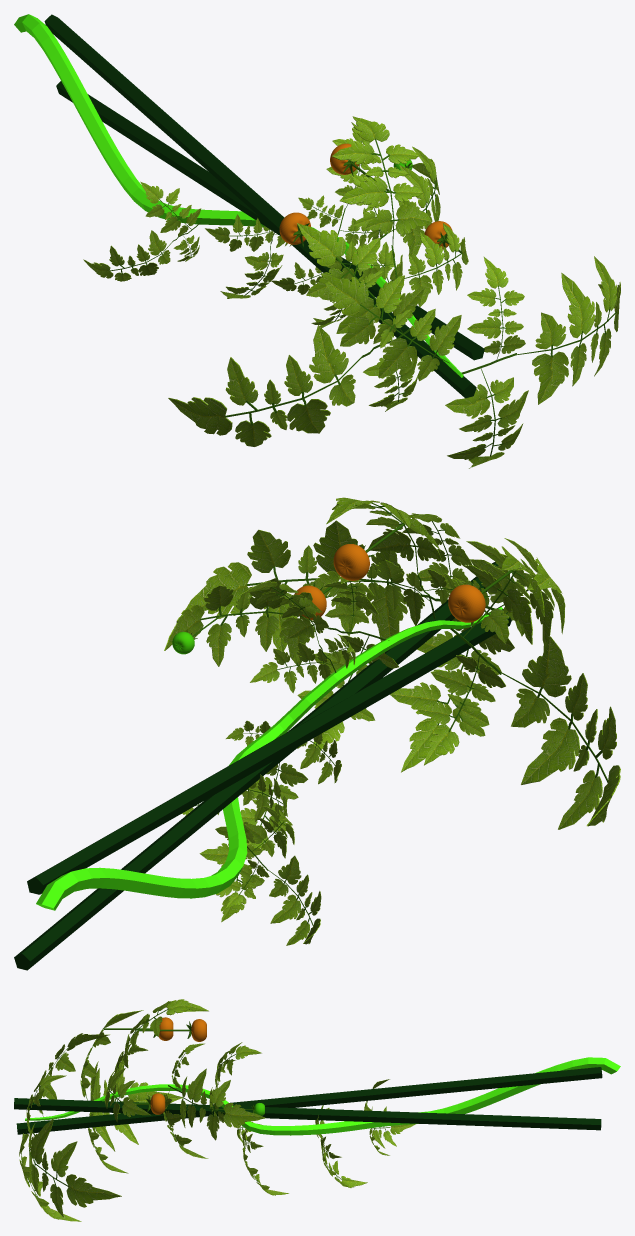
File: tomato_plant_3.obj
The picture shows the model from 3 angles, top to bottom: view 1: azimuth 30°, elevation 25°; view 2: azimuth 150°, elevation 25°; view 3: azimuth 270°, elevation 25°; orthographic projection. The views are drawn at different scales.
Parts seen in each view (by area): view 1: Plane.001_Plane.011, Plane.002_Plane.012, stick.001_Cylinder.003, leaf_cluster.002_Plane.002, Cylinder.001_Cylinder.002, leaf_cluster_Plane.004, stick_Cylinder.001, Plane.007_Plane.005, leaf_cluster.001_Plane.001, Plane.003_Plane.013, leaf_cluster.003_Plane.003, Plane.005_Plane.016 (+3 smaller); view 2: Plane.001_Plane.011, stick.001_Cylinder.003, Cylinder.001_Cylinder.002, stick_Cylinder.001, Plane.003_Plane.013, leaf_cluster_Plane.004, Plane.002_Plane.012, Plane.007_Plane.005, Plane.006_Plane.017, leaf_cluster.001_Plane.001, Plane.004_Plane.014, leaf_cluster.002_Plane.002 (+4 smaller); view 3: stick_Cylinder.001, stick.001_Cylinder.003, Cylinder.001_Cylinder.002, Plane.003_Plane.013, leaf_cluster_Plane.004, Plane.001_Plane.011, Plane.002_Plane.012, leaf_cluster.002_Plane.002, Plane.006_Plane.017, leaf_cluster.001_Plane.001, Plane.005_Plane.016, Plane.007_Plane.005 (+5 smaller).
Part boxes in pixels (x1,y1,x2,y2): Plane.001_Plane.011: [168, 223, 424, 446]; Plane.002_Plane.012: [318, 116, 468, 306]; stick.001_Cylinder.003: [44, 14, 476, 398]; leaf_cluster.002_Plane.002: [323, 276, 461, 381]; Cylinder.001_Cylinder.002: [14, 14, 463, 377]; leaf_cluster_Plane.004: [516, 256, 620, 404]; stick_Cylinder.001: [56, 81, 484, 360]; Plane.007_Plane.005: [83, 181, 201, 281]; leaf_cluster.001_Plane.001: [445, 368, 528, 468]; Plane.003_Plane.013: [349, 146, 440, 322]; leaf_cluster.003_Plane.003: [467, 256, 525, 360]; Plane.005_Plane.016: [205, 214, 291, 298]; Plane.001_Plane.011: [417, 541, 620, 829]; stick.001_Cylinder.003: [27, 609, 511, 894]; Cylinder.001_Cylinder.002: [36, 607, 502, 910]; stick_Cylinder.001: [14, 562, 498, 970]; Plane.003_Plane.013: [164, 576, 399, 751]; leaf_cluster_Plane.004: [181, 520, 421, 651]; Plane.002_Plane.012: [311, 497, 473, 625]; Plane.007_Plane.005: [226, 806, 321, 945]; Plane.006_Plane.017: [240, 581, 355, 693]; leaf_cluster.001_Plane.001: [390, 618, 514, 772]; Plane.004_Plane.014: [226, 720, 341, 849]; leaf_cluster.002_Plane.002: [470, 538, 565, 643]; stick_Cylinder.001: [14, 1098, 601, 1130]; stick.001_Cylinder.003: [16, 1067, 602, 1134]; Cylinder.001_Cylinder.002: [25, 1057, 620, 1135]; Plane.003_Plane.013: [163, 1043, 265, 1158]; leaf_cluster_Plane.004: [28, 1118, 121, 1216]; Plane.001_Plane.011: [80, 1010, 182, 1173]; Plane.002_Plane.012: [104, 999, 208, 1122]; leaf_cluster.002_Plane.002: [39, 1033, 110, 1116]; Plane.006_Plane.017: [209, 1042, 261, 1122]; leaf_cluster.001_Plane.001: [19, 1128, 81, 1221]; Plane.005_Plane.016: [315, 1105, 367, 1187]; Plane.007_Plane.005: [364, 1079, 415, 1155].
Size of the model in its own units: 0.6721 by 0.4783 by 1.27.
Materials: 6 (1 with a texture image).
